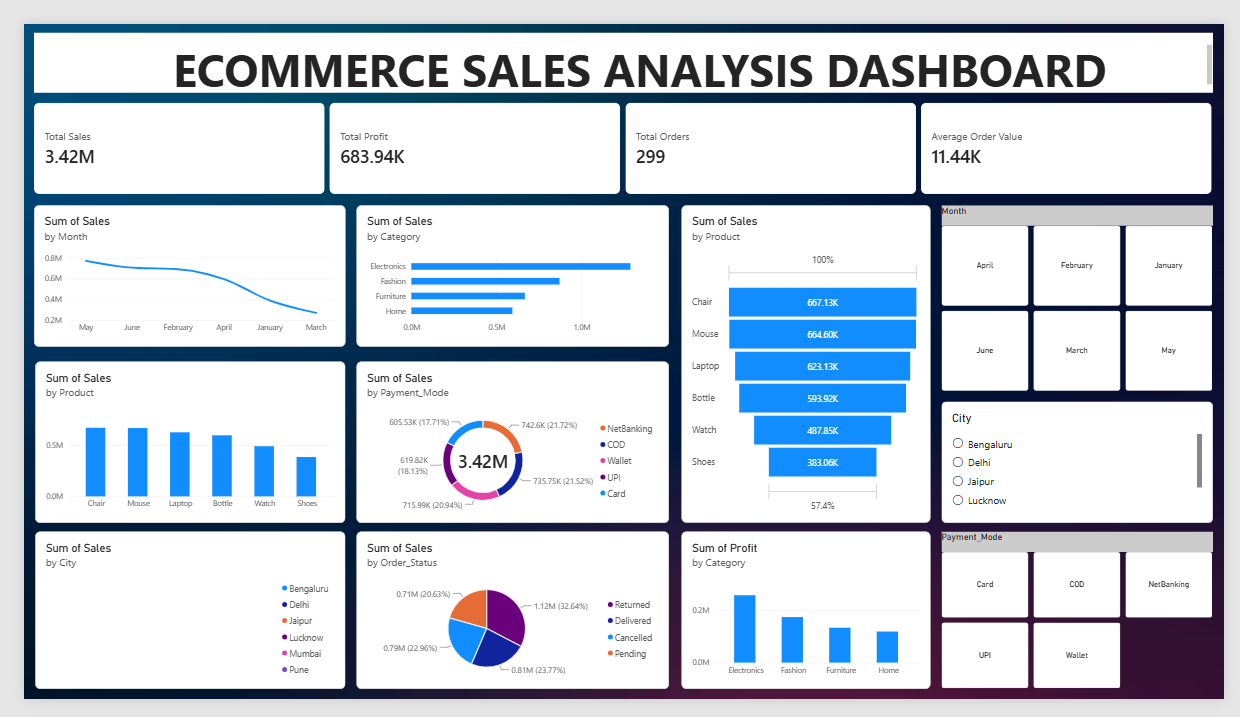

The page's visual inventory and layout, read from the dashboard file:
{"tool":"powerbi","page":{"name":"Page 1","canvas":[1920,1080],"ordinal":0},"visuals":[{"type":"cardVisual","fields":{"Data":["dax measures.Total Sales","dax measures.Total Profit","dax measures.Total Orders","dax measures.Average Order Value"]},"box":[16,126,1886,146],"z":0},{"type":"textbox","box":[16,14,1886,96],"z":1000},{"type":"lineChart","fields":{"Category":["ecommerce orders.Month"],"Y":["Sum(ecommerce orders.Sales)"]},"box":[16,290,498,226],"z":2000},{"type":"barChart","fields":{"Category":["ecommerce orders.Category"],"Y":["Sum(ecommerce orders.Sales)"]},"box":[532,290,500,226],"z":3000},{"type":"columnChart","fields":{"Category":["ecommerce orders.Product"],"Y":["Sum(ecommerce orders.Sales)"]},"box":[18,540,496,258],"z":4000},{"type":"pieChart","fields":{"Category":["ecommerce orders.City"]},"box":[18,812,496,252],"z":5000},{"type":"donutChart","fields":{"Category":["ecommerce orders.Payment_Mode"],"Y":["Sum(ecommerce orders.Sales)"]},"box":[532,540,500,258],"z":6000},{"type":"pieChart","fields":{"Category":["ecommerce orders.Order_Status"],"Y":["Sum(ecommerce orders.Sales)"]},"box":[532,812,500,252],"z":7000},{"type":"funnel","fields":{"Category":["ecommerce orders.Product"],"Y":["Sum(ecommerce orders.Sales)"]},"box":[1052,290,398,508],"z":8000},{"type":"columnChart","fields":{"Category":["ecommerce orders.Category"],"Y":["Sum(ecommerce orders.Profit)"]},"box":[1052,812,398,252],"z":9000},{"type":"advancedSlicerVisual","fields":{"Values":["ecommerce orders.Month"]},"box":[1468,290,434,298],"z":10000},{"type":"listSlicer","fields":{"Values":["ecommerce orders.City"]},"box":[1468,604,434,194],"z":11000},{"type":"advancedSlicerVisual","fields":{"Values":["ecommerce orders.Payment_Mode"]},"box":[1468,812,434,252],"z":11001}]}

Visuals, with their boxes in screenshot pixels (x1, y1, x2, y2), scaled from the page's 1920x1080 canvas onto the 1240x717 screenshot:
cardVisual - dax measures.Total Sales x dax measures.Total Profit: (left=10, top=84, right=1228, bottom=181)
textbox: (left=10, top=9, right=1228, bottom=73)
lineChart - ecommerce orders.Month x Sum(ecommerce orders.Sales): (left=10, top=193, right=332, bottom=343)
barChart - ecommerce orders.Category x Sum(ecommerce orders.Sales): (left=344, top=193, right=666, bottom=343)
columnChart - ecommerce orders.Product x Sum(ecommerce orders.Sales): (left=12, top=358, right=332, bottom=530)
pieChart - ecommerce orders.City: (left=12, top=539, right=332, bottom=706)
donutChart - ecommerce orders.Payment_Mode x Sum(ecommerce orders.Sales): (left=344, top=358, right=666, bottom=530)
pieChart - ecommerce orders.Order_Status x Sum(ecommerce orders.Sales): (left=344, top=539, right=666, bottom=706)
funnel - ecommerce orders.Product x Sum(ecommerce orders.Sales): (left=679, top=193, right=936, bottom=530)
columnChart - ecommerce orders.Category x Sum(ecommerce orders.Profit): (left=679, top=539, right=936, bottom=706)
advancedSlicerVisual - ecommerce orders.Month: (left=948, top=193, right=1228, bottom=390)
listSlicer - ecommerce orders.City: (left=948, top=401, right=1228, bottom=530)
advancedSlicerVisual - ecommerce orders.Payment_Mode: (left=948, top=539, right=1228, bottom=706)
